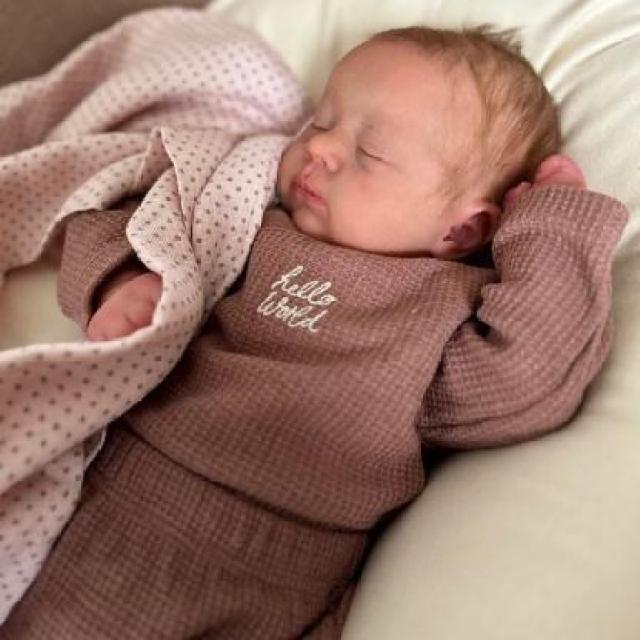baby: (7, 21, 631, 640)
